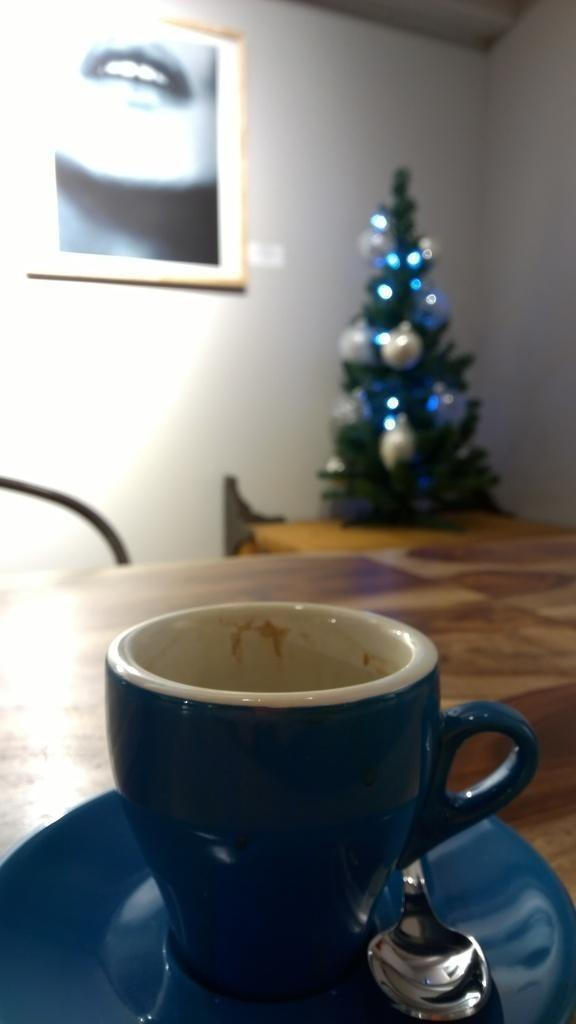cup-handle: (107, 600, 537, 1004)
